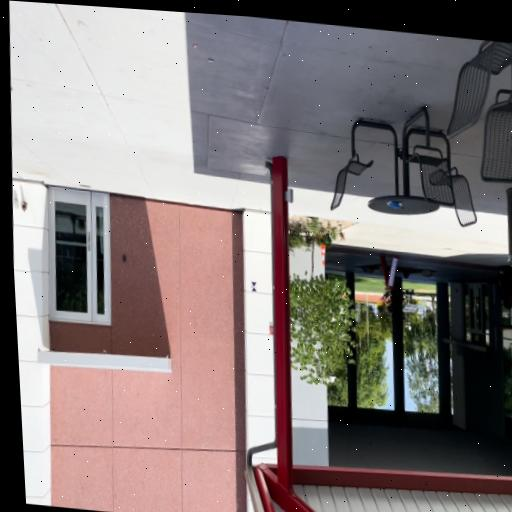target9: (250, 280, 257, 291)
